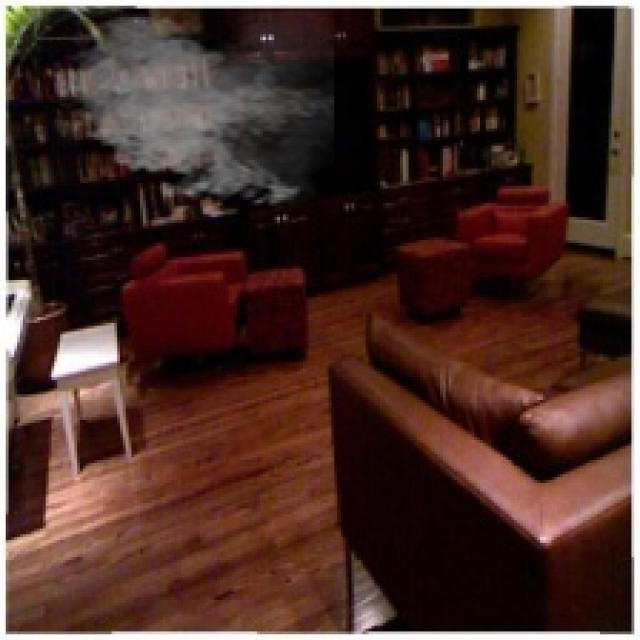Smoke: (52, 8, 334, 212)
